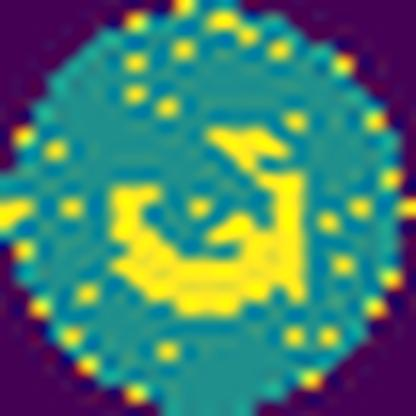Donut: (102, 113, 313, 325)
